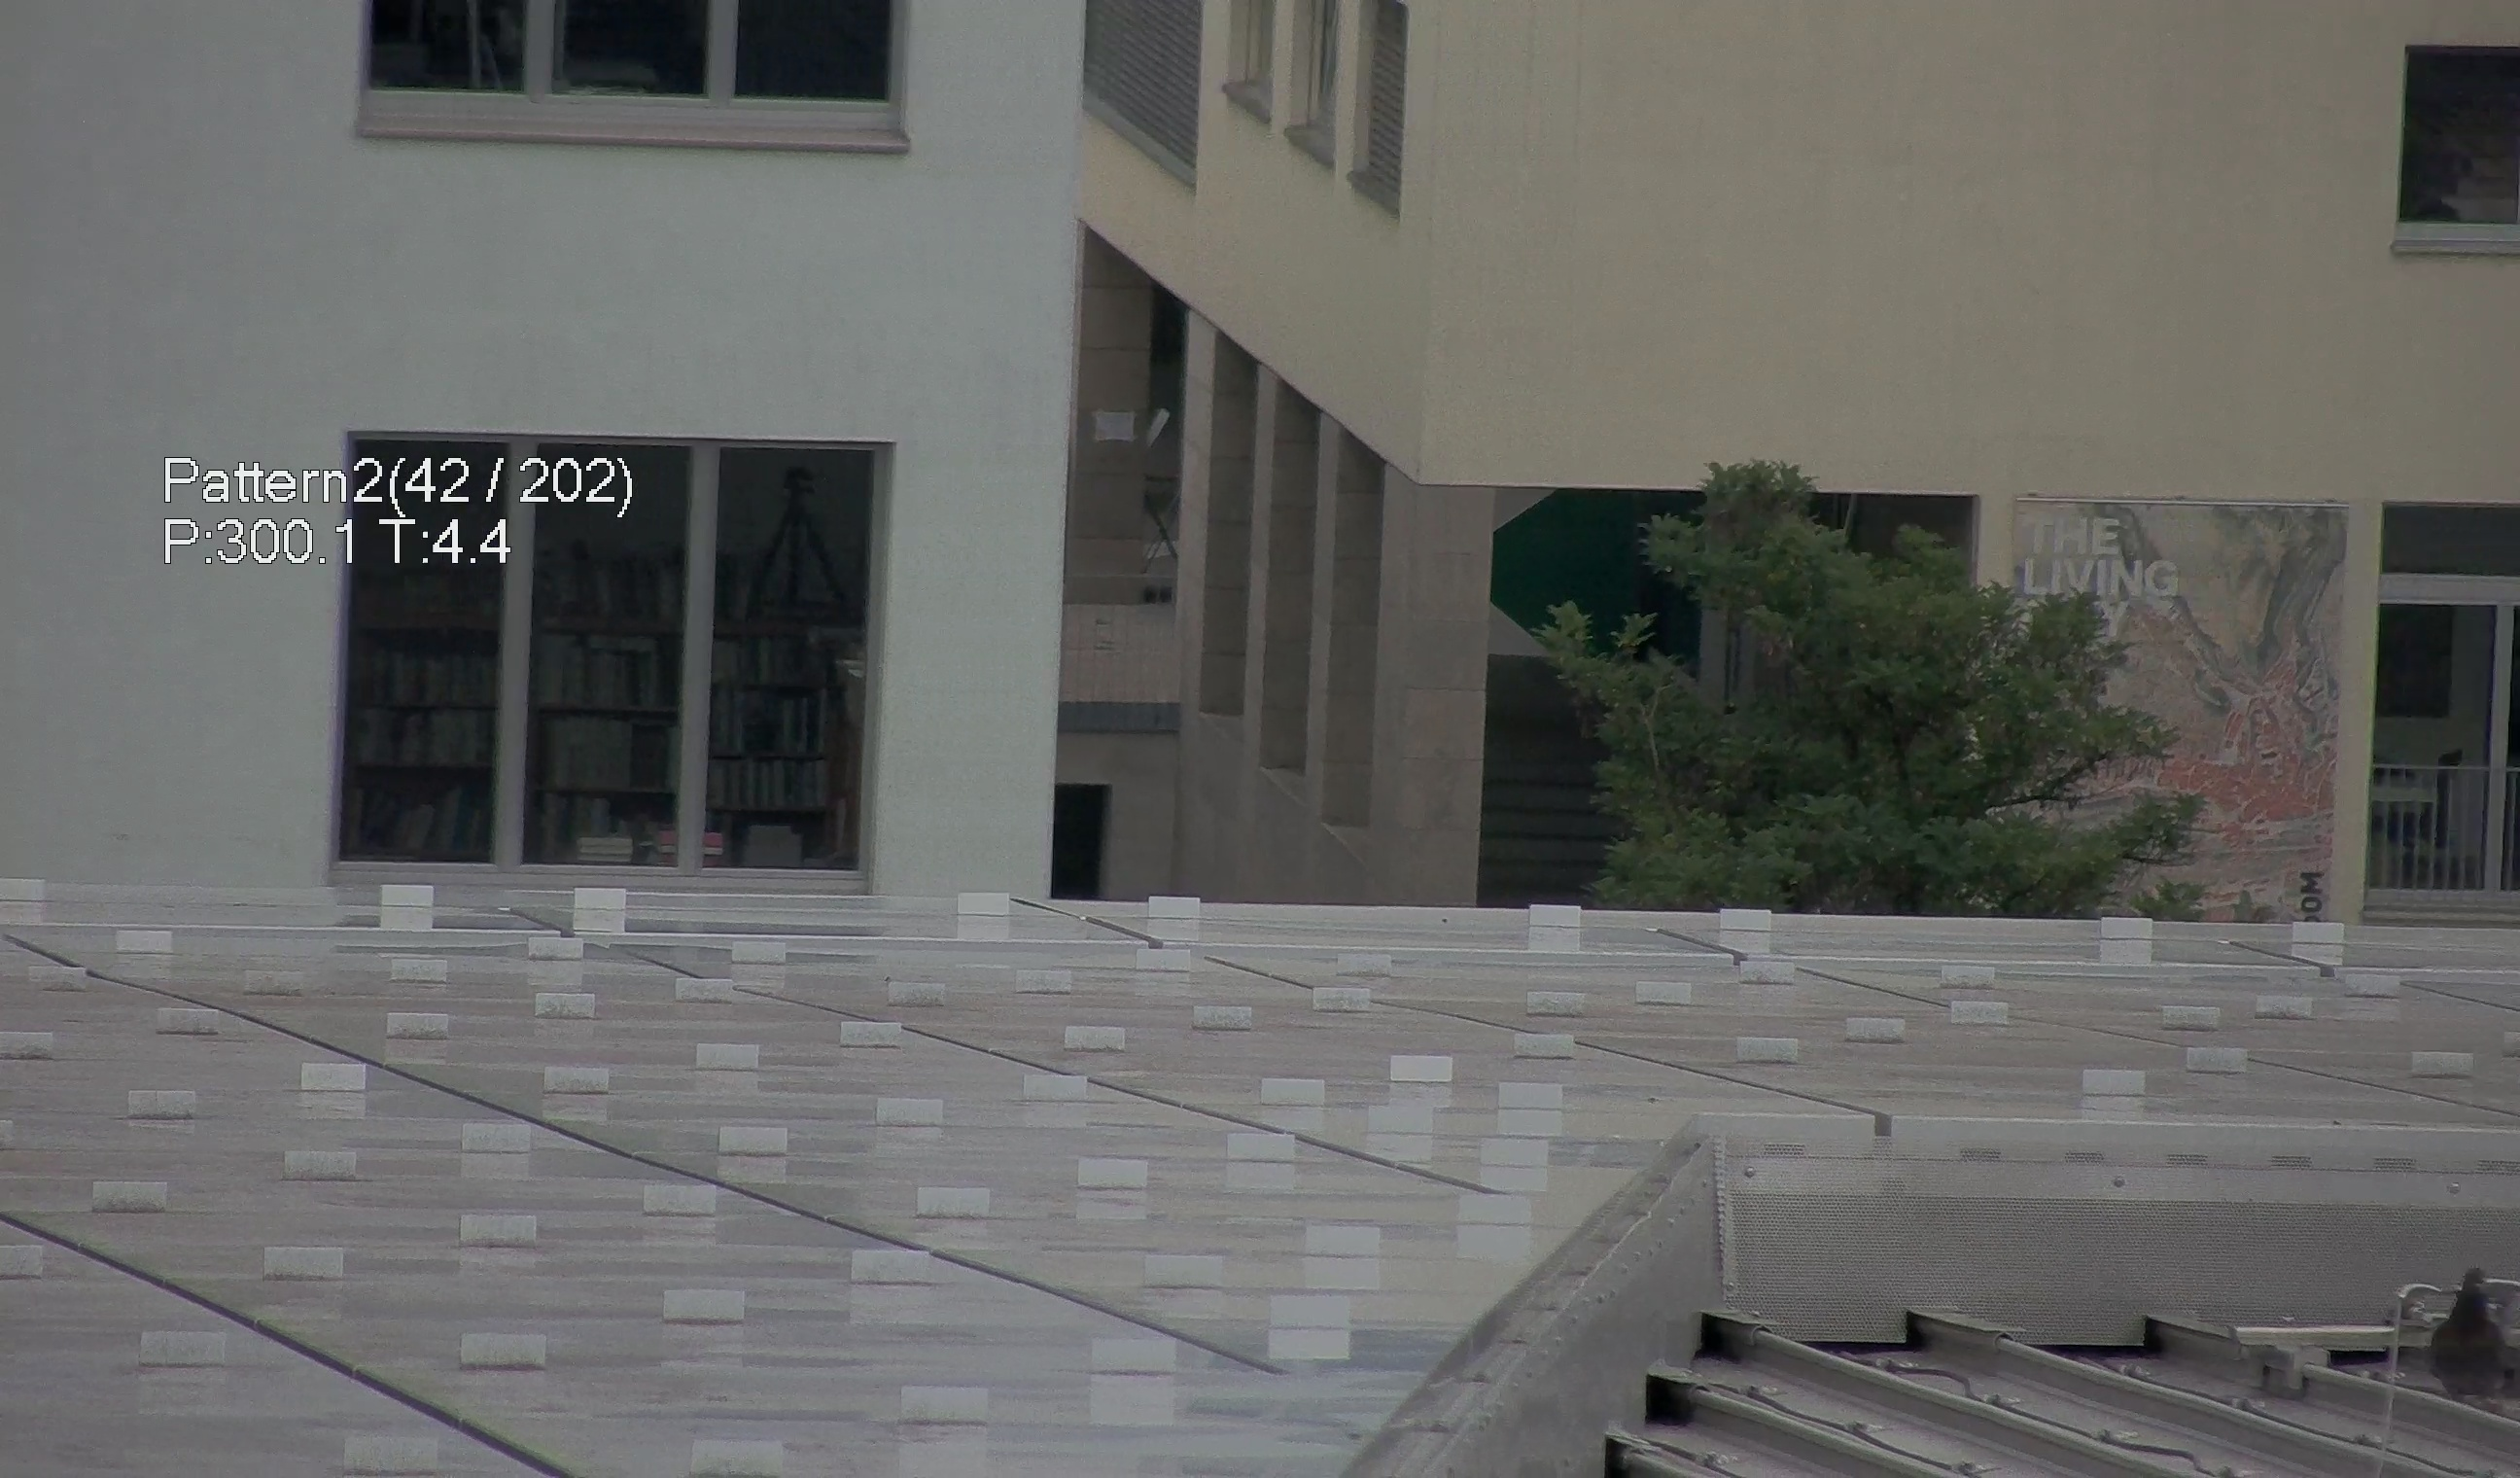Pigeon: (2434, 1258, 2518, 1394)
